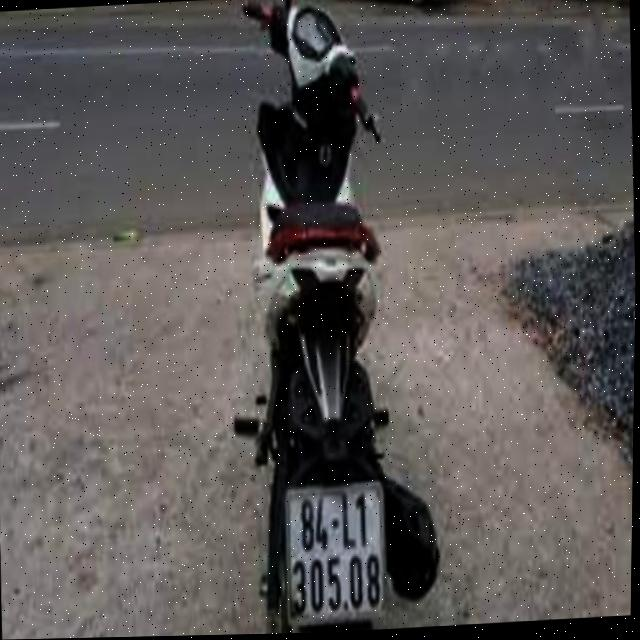motorcycle: (219, 0, 446, 635)
plate: (278, 470, 393, 631)
